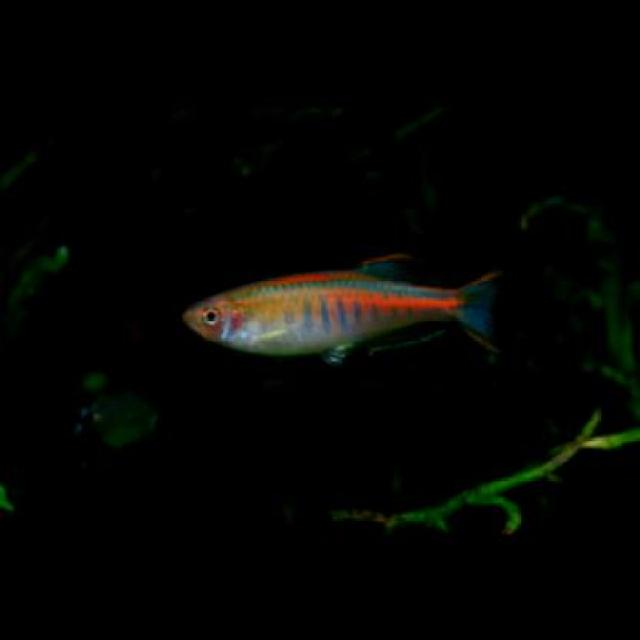ZebraFish: (194, 252, 498, 361)
